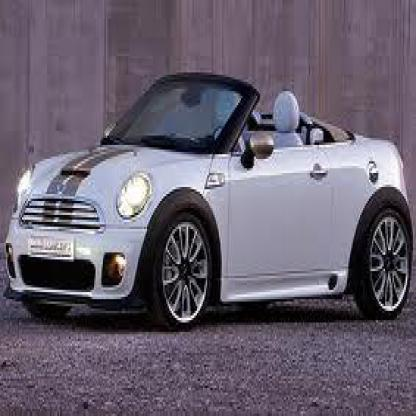Vehicle: (5, 72, 414, 342)
